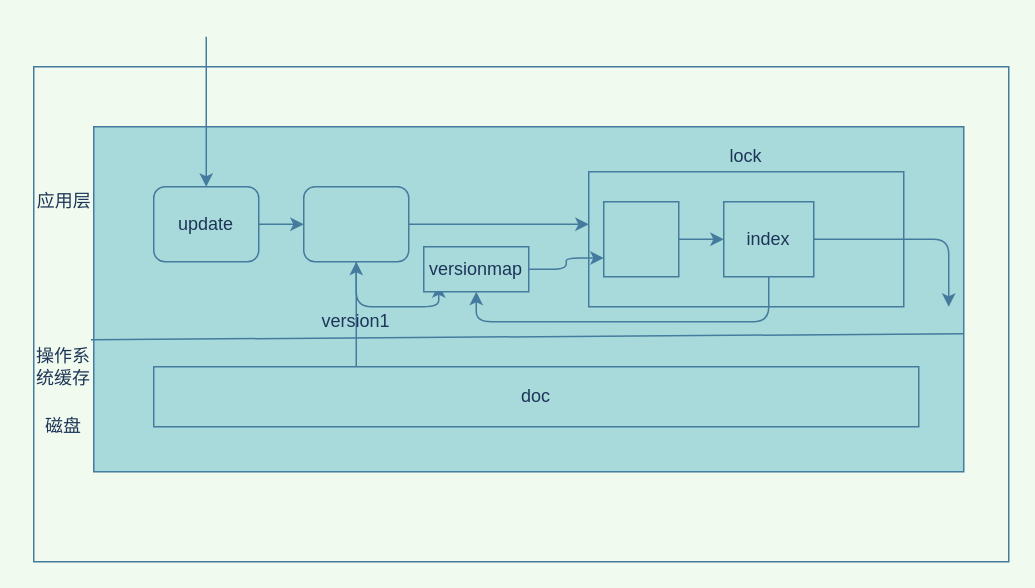
The diagram is 1035 pixels wide and 588 high, and some of its shapes have lost their labels. Each missing label, with the centre of its shape:
"合并新文档" goes at (x=355, y=223).
"版本校验" goes at (x=640, y=238).
